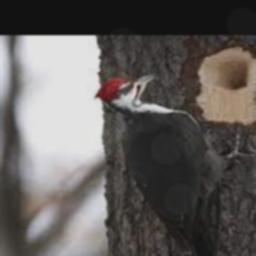Woodpecker: (95, 73, 254, 256)
